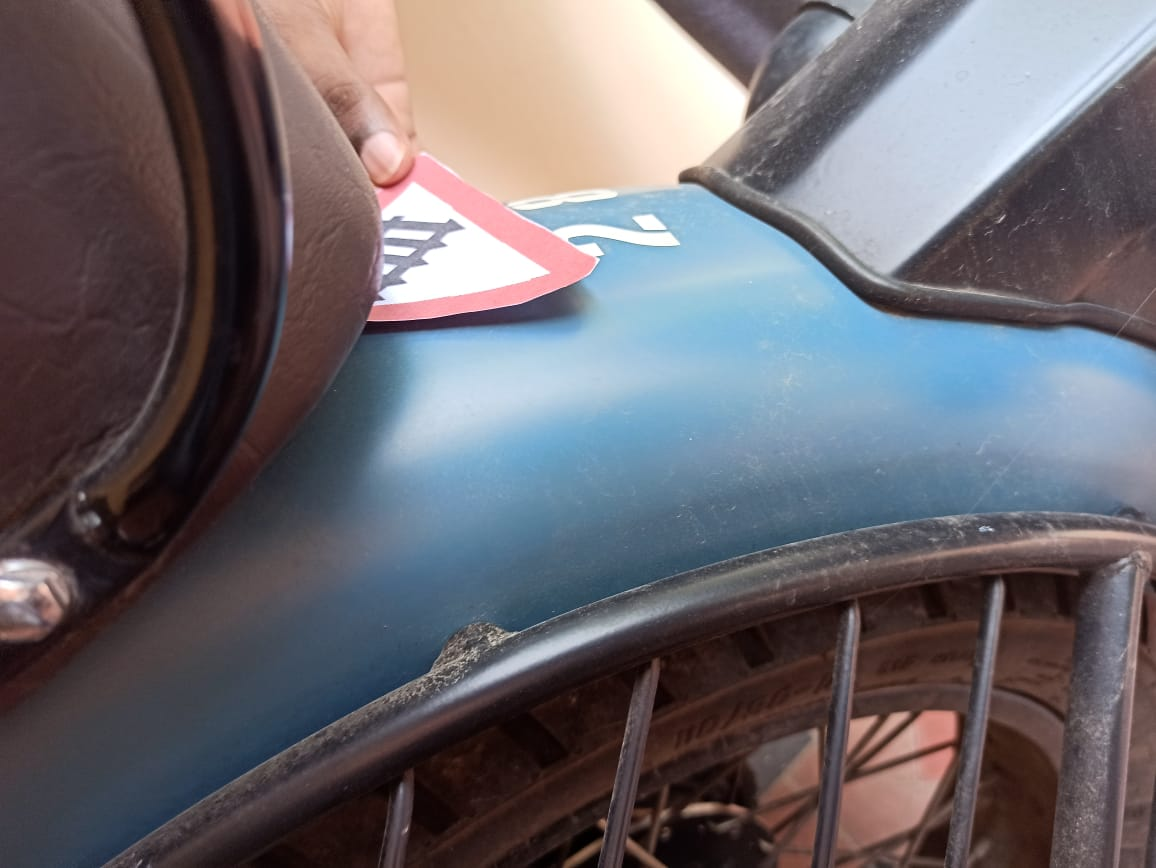GUARDED LEVEL CROSSING: (344, 116, 623, 329)
